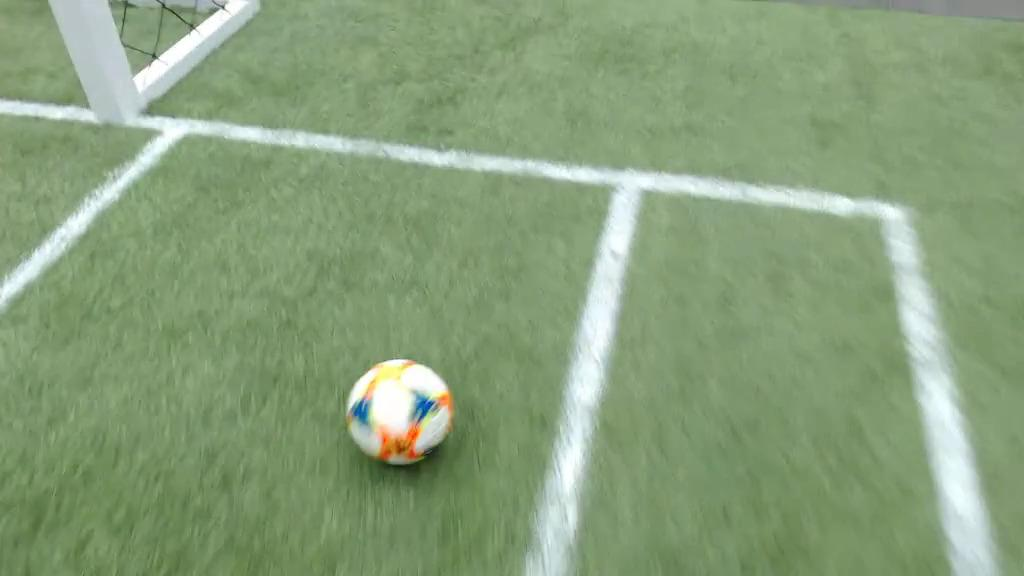ball: (348, 359, 452, 466)
